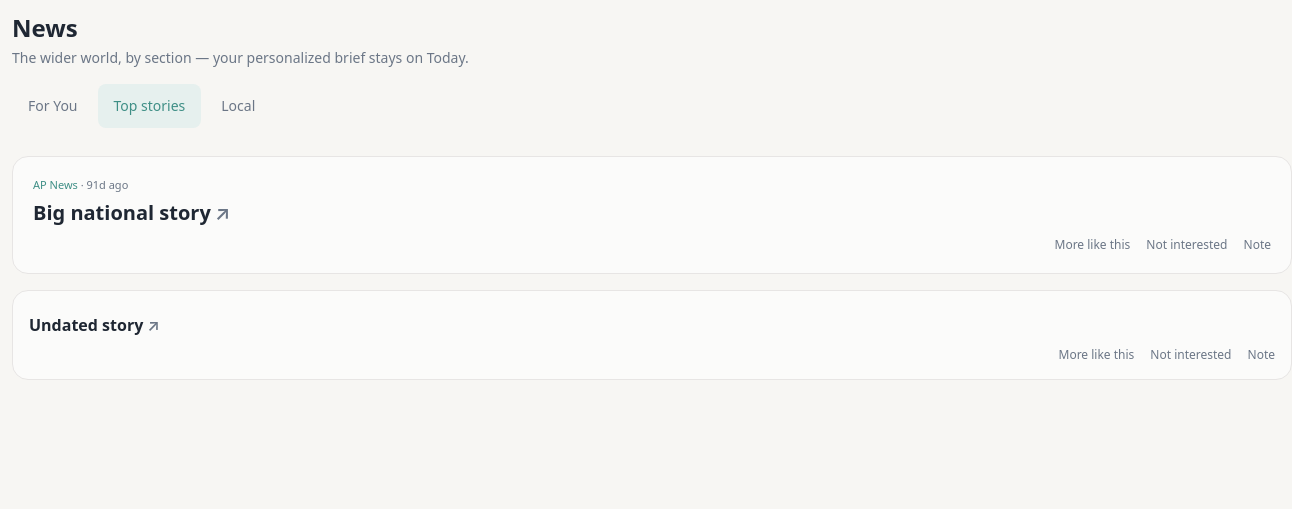
Test: News (M7) › a failed note save shows the error and keeps the composer open
Expected: the link "Big national story↗" is shown, 33,199 -> 230,226
Click the button with aria-label "Note on Big national story" at (1257, 245), box 1244,237 -> 1271,253
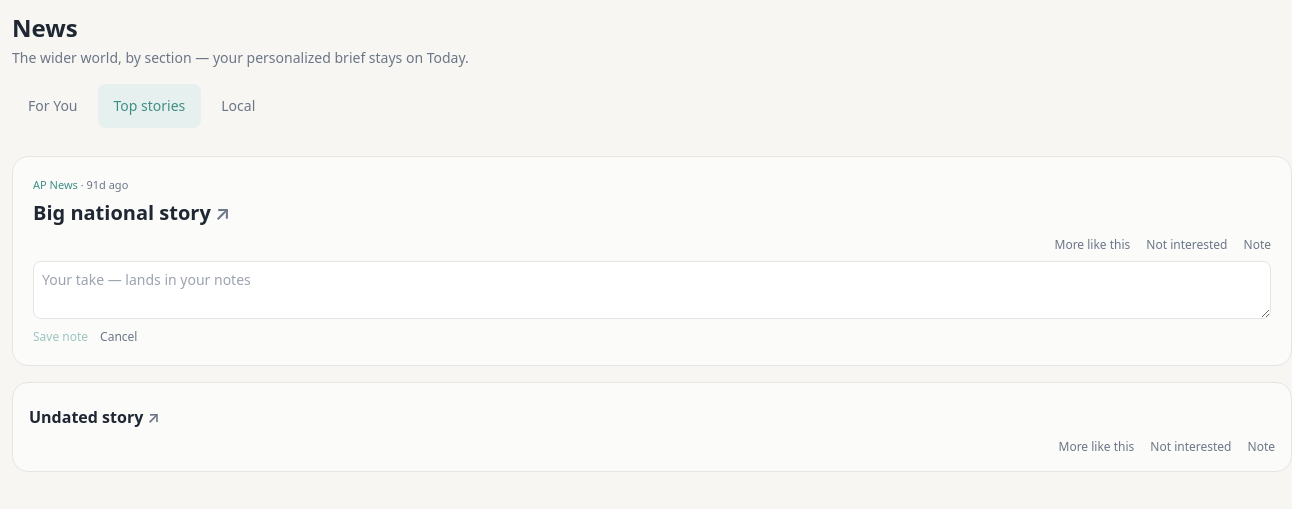
Type "Worth tracking" into the text box with placeholder "Your take — lands in your notes" at (652, 290), box 33,261 -> 1271,319
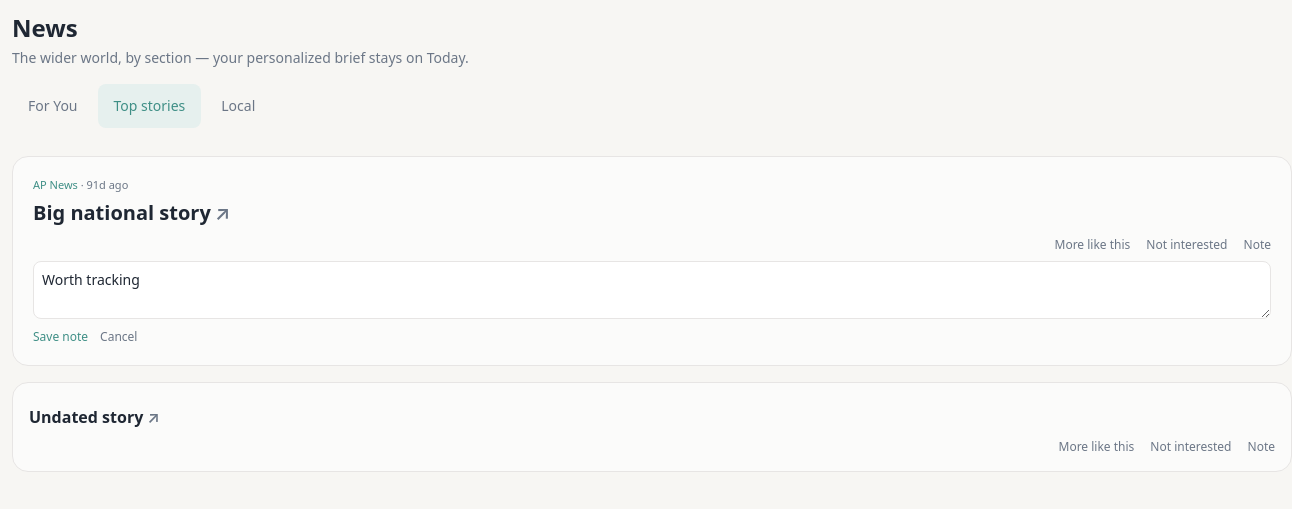
Click the button "Save note" at (61, 337), box 33,329 -> 88,345
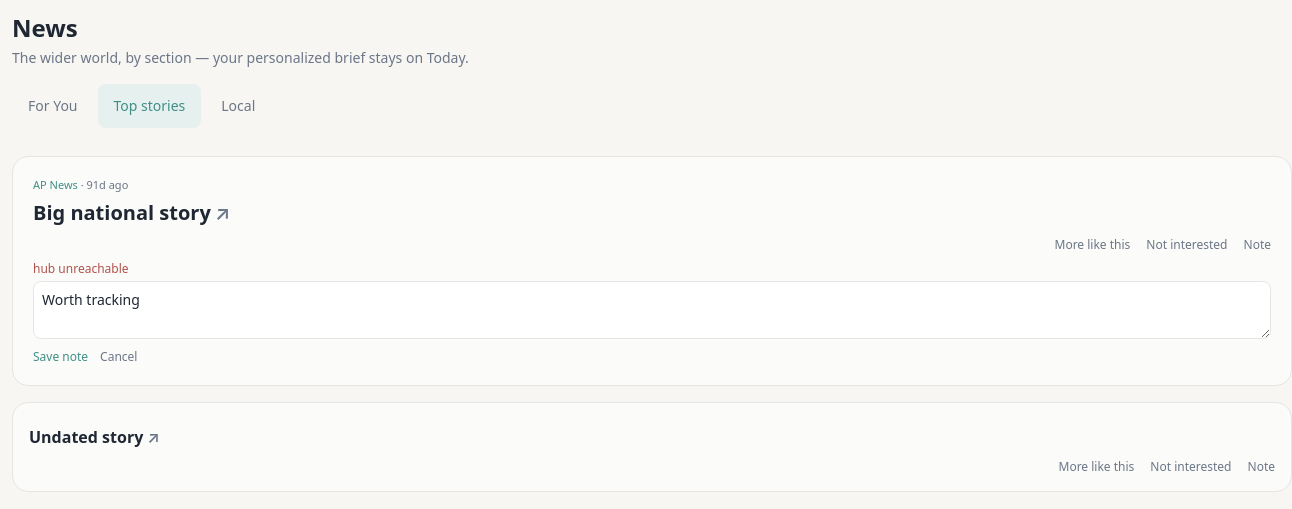
Expected: the text "hub unreachable" is shown, 33,260 -> 128,277
